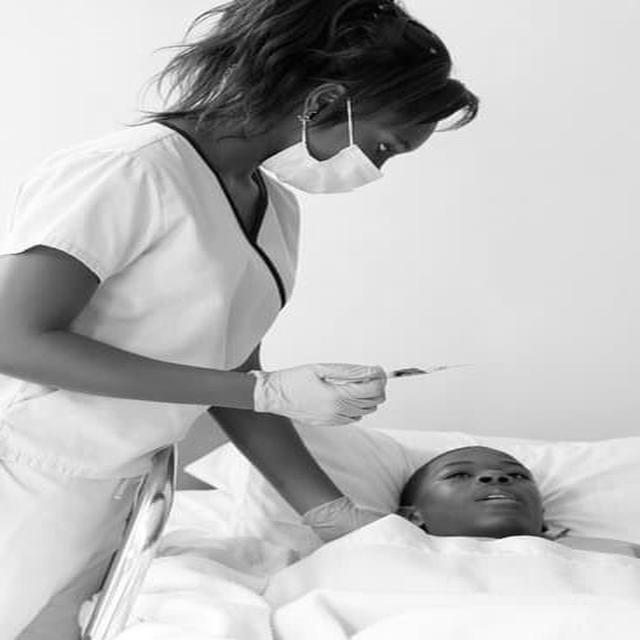Fear: (423, 448, 543, 537)
